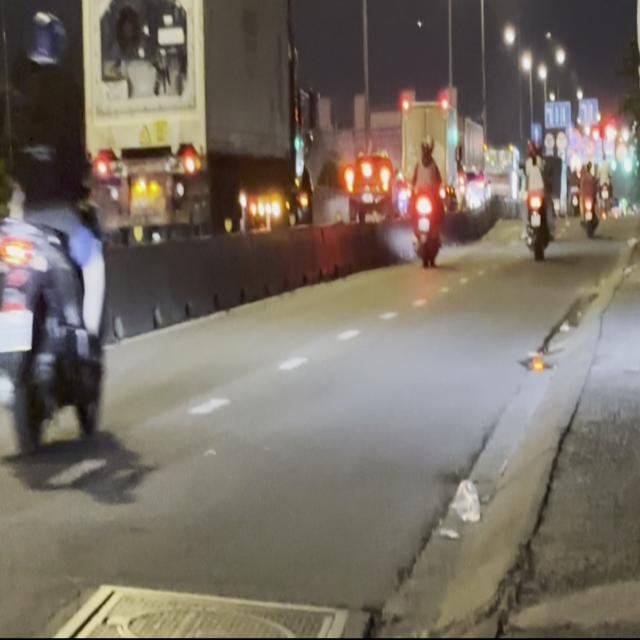helmet: (19, 11, 72, 86)
licenseplate: (0, 4, 114, 461)
nohelmet: (0, 310, 31, 350)
